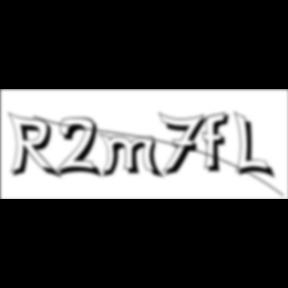2: (56, 117, 106, 181)
7: (159, 111, 214, 179)
L: (234, 110, 278, 182)
R: (8, 112, 65, 182)
f: (202, 111, 235, 175)
m: (98, 132, 166, 181)
